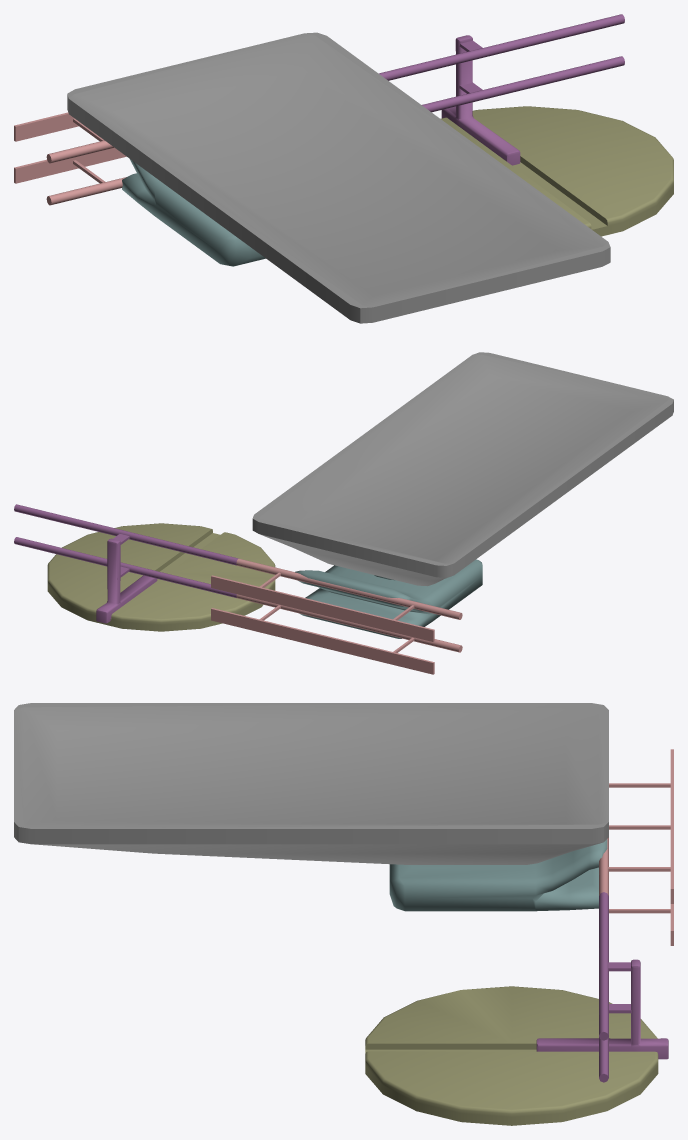
Rendered from Bed&Rails.FBX.
3 views of the same model, one above another, from view 1: azimuth 30°, elevation 25°; view 2: azimuth 150°, elevation 25°; view 3: azimuth 270°, elevation 25° (orthographic). The views are drawn at different scales.
Parts seen in each view (by area): view 1: Bed, Disk, RailsTurning, Support, Rails; view 2: Bed, Disk, Rails, Support, RailsTurning; view 3: Bed, Disk, Support, RailsTurning, Rails.
Part boxes in pixels (<box>): Bed: <box>67,32,610,323</box>; Disk: <box>440,106,673,236</box>; RailsTurning: <box>379,14,624,165</box>; Support: <box>122,159,265,266</box>; Rails: <box>14,112,126,205</box>; Bed: <box>252,352,673,586</box>; Disk: <box>47,523,275,631</box>; Rails: <box>211,558,462,674</box>; Support: <box>295,559,482,638</box>; RailsTurning: <box>14,504,238,623</box>; Bed: <box>14,703,608,864</box>; Disk: <box>365,986,658,1125</box>; Support: <box>389,839,607,911</box>; RailsTurning: <box>536,892,668,1082</box>; Rails: <box>599,749,673,945</box>.
Bounding box in the file's own units: 200 × 52.18 × 200.
